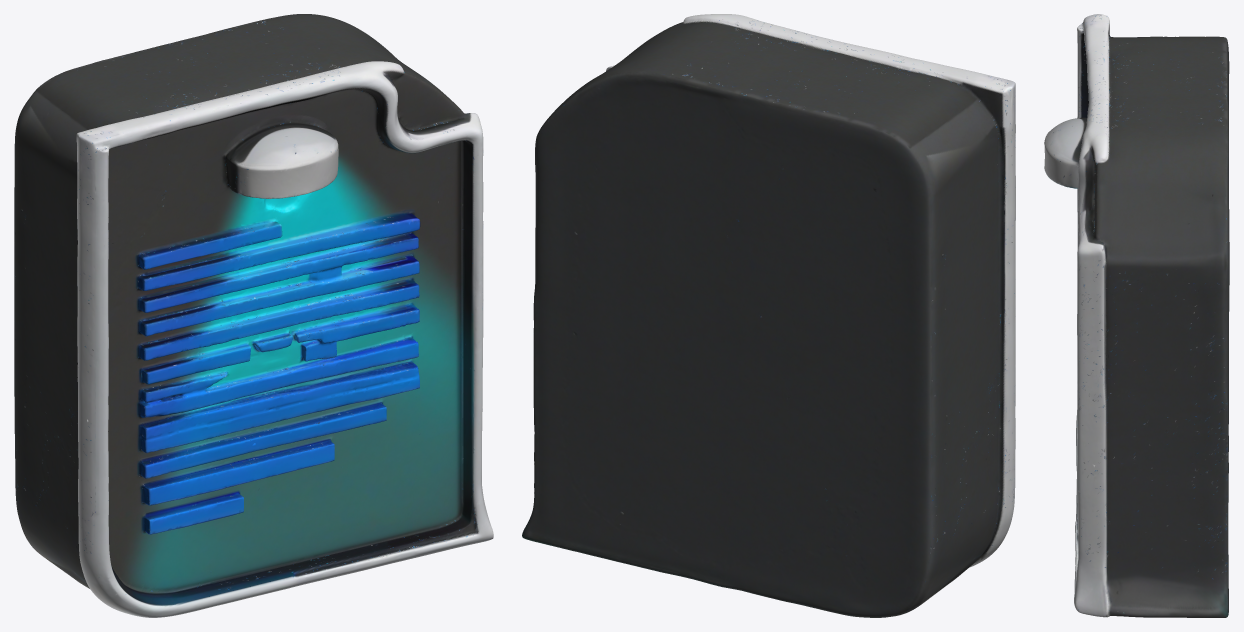
The model's file is Glowing_Document.glb.
The picture shows the model from 3 angles, left to right: view 1: azimuth 30°, elevation 25°; view 2: azimuth 150°, elevation 25°; view 3: azimuth 270°, elevation 25°; orthographic projection. The views are drawn at different scales.
Bounding box in the file's own units: 1.74 × 2 × 0.7763.
Materials: 1 (1 with a texture image).
